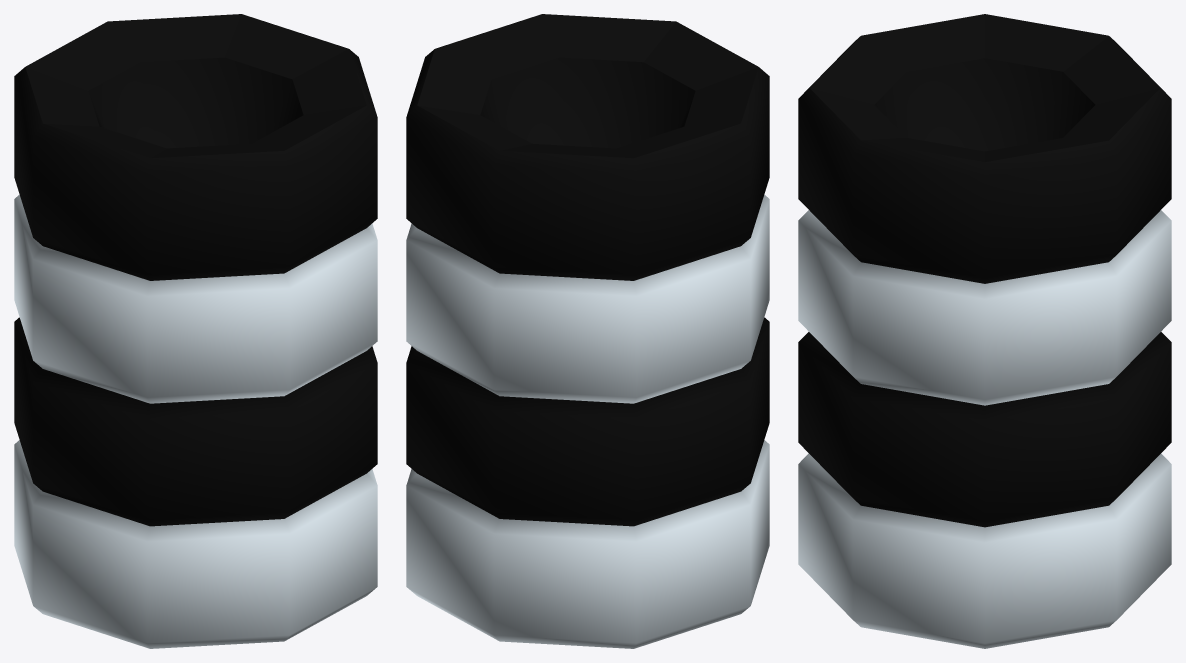
Rendered from Object_Tyres.FBX.
The picture shows the model from 3 angles, left to right: view 1: azimuth 30°, elevation 25°; view 2: azimuth 150°, elevation 25°; view 3: azimuth 270°, elevation 25°; orthographic projection.
Visible parts, largest first — view 1: Object_Tyres; view 2: Object_Tyres; view 3: Object_Tyres.
Part boxes in pixels (x1,y1,x2,y2): Object_Tyres: [14, 14, 377, 648]; Object_Tyres: [406, 14, 769, 648]; Object_Tyres: [798, 14, 1171, 648].
Size of the model in its own units: 0.9418 by 1.36 by 0.9418.
